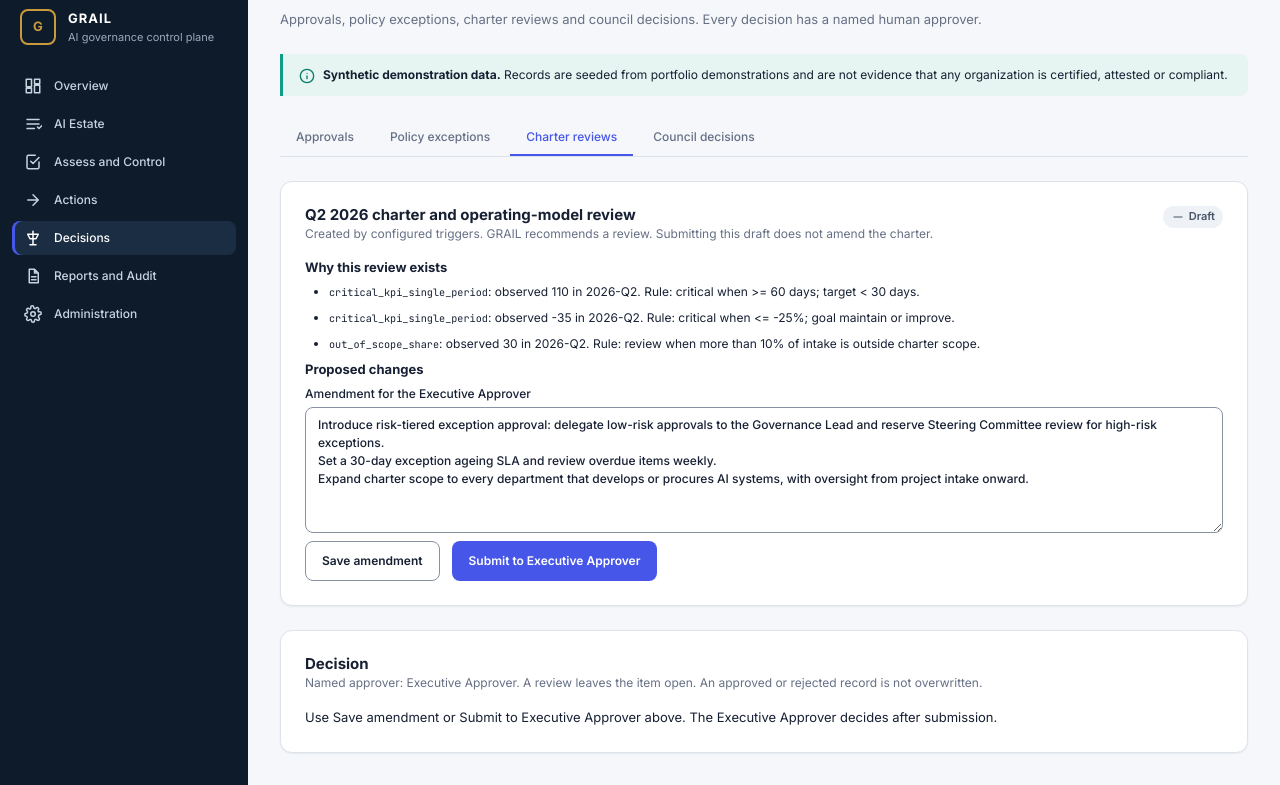
it: workflow records › lets the governance lead amend and submit the charter review
(page scrolled)
Expected: the text box labelled "Amendment for the Executive Approver" is shown, [305,407,1223,533]
Click the button "Submit to Executive Approver". click: (554, 561)
box: [452,541,657,581]
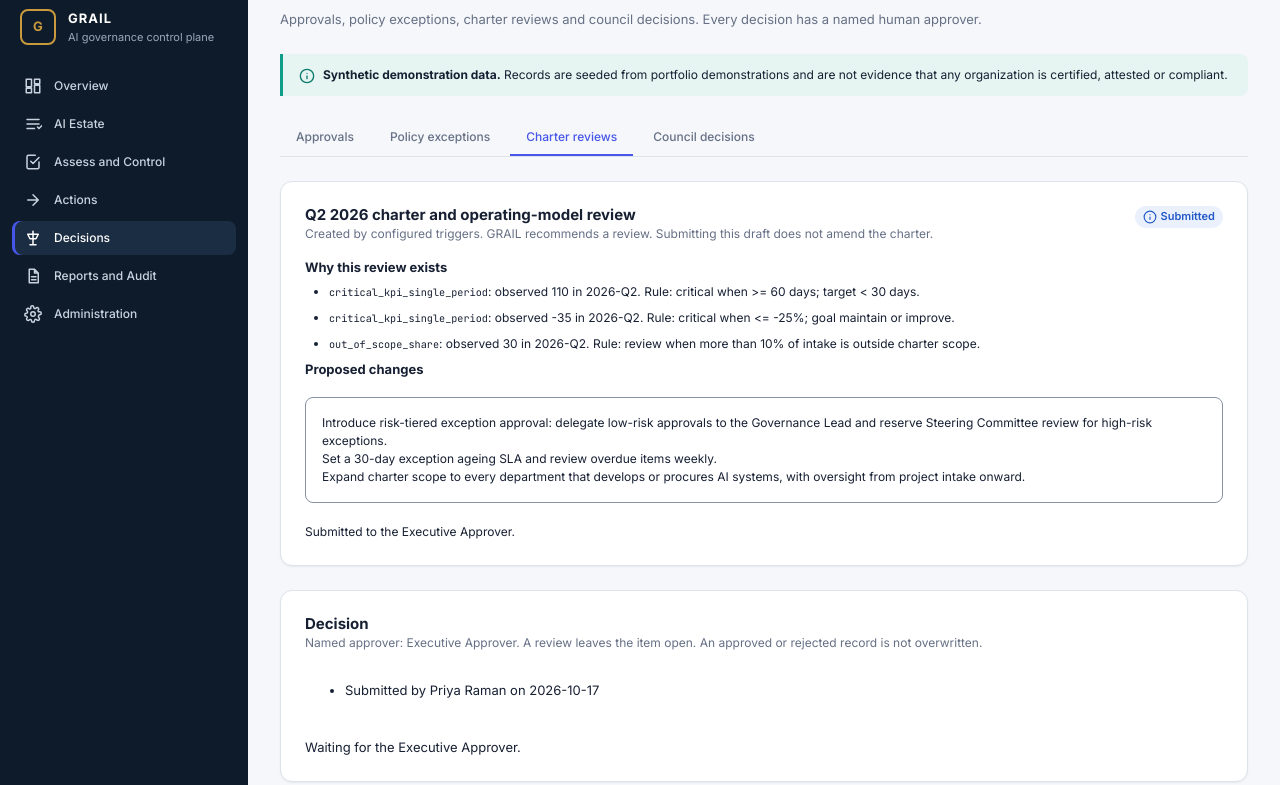
Expected: the text "Submitted to the Executive Approver." is shown, [305,524,515,539]
